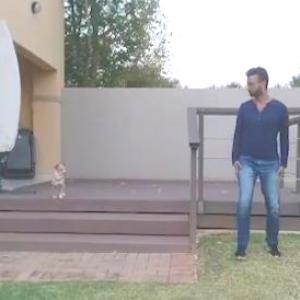follow: (226, 61, 284, 266)
